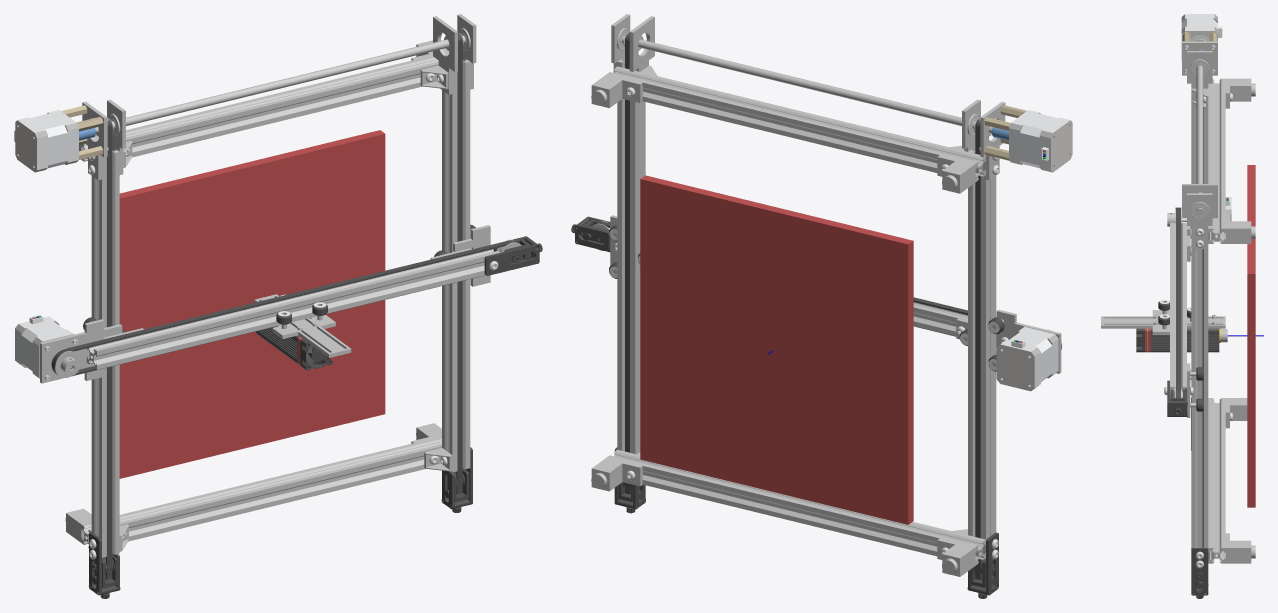
Rendered from Mechanizm XY.glb.
3 renders of one model, left to right at view 1: azimuth 30°, elevation 25°; view 2: azimuth 150°, elevation 25°; view 3: azimuth 270°, elevation 25°, orthographic. The views are drawn at different scales.
Parts seen in each view (by area): view 1: root; view 2: root; view 3: root.
Part boxes in pixels (x1,y1,x2,y2): root: (14, 14, 542, 598); root: (571, 14, 1072, 598); root: (1101, 14, 1263, 598).
Bounding box in the file's own units: 2 × 1.87 × 0.6744.
